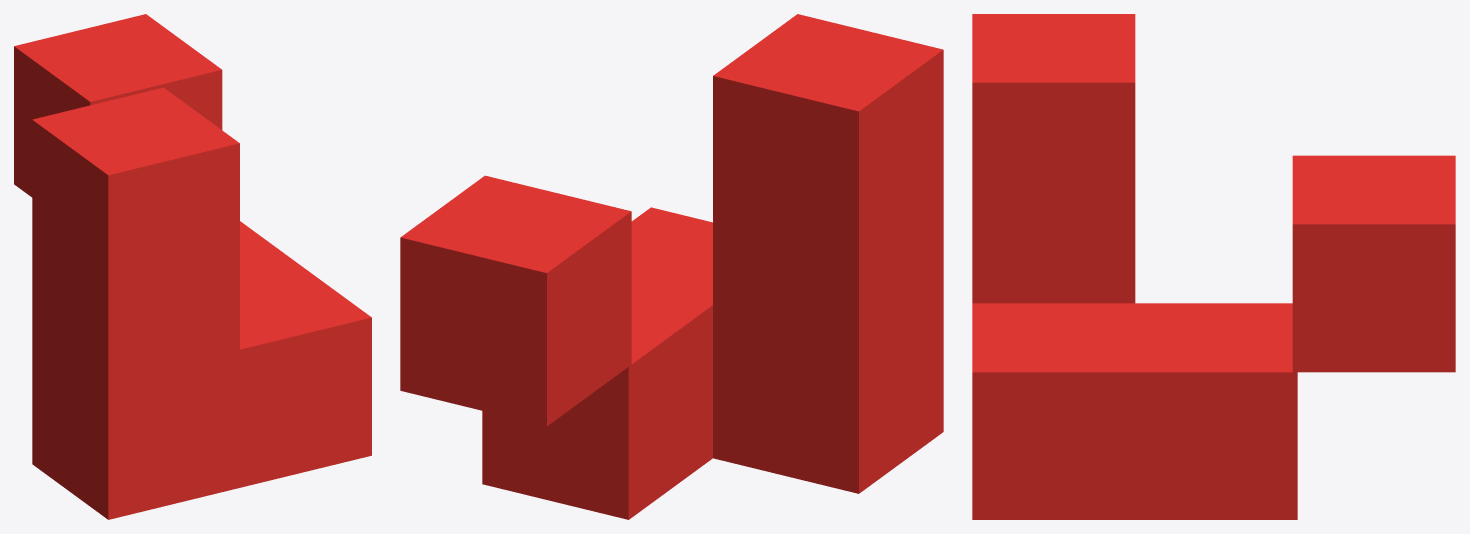
Rendered from laravel.glb.
3 views of the same model, side by side, from view 1: azimuth 30°, elevation 25°; view 2: azimuth 150°, elevation 25°; view 3: azimuth 270°, elevation 25° (orthographic). The views are drawn at different scales.
Visible parts, largest first — view 1: Cube; view 2: Cube; view 3: Cube.
Part boxes in pixels (box(x1,y1,x2,y2)): Cube: box(14, 14, 371, 519); Cube: box(400, 14, 943, 519); Cube: box(972, 14, 1455, 519).
Size of the model in its own units: 3.99 by 4.99 by 5.93.
